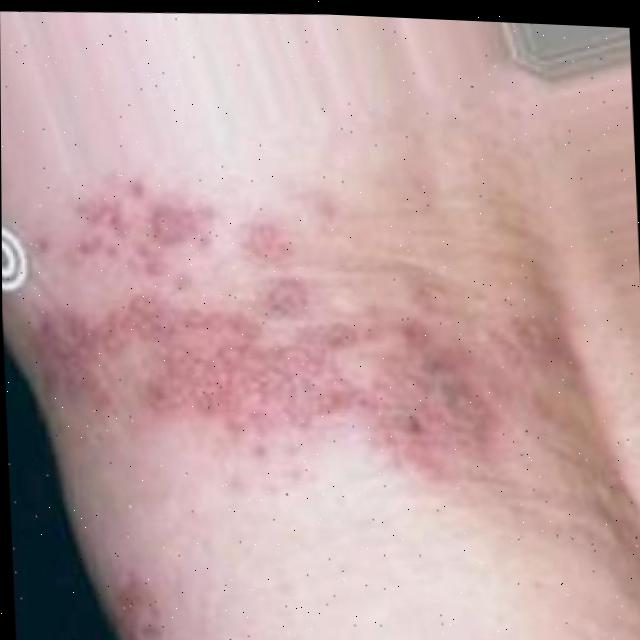Shingles: (40, 159, 553, 489)
